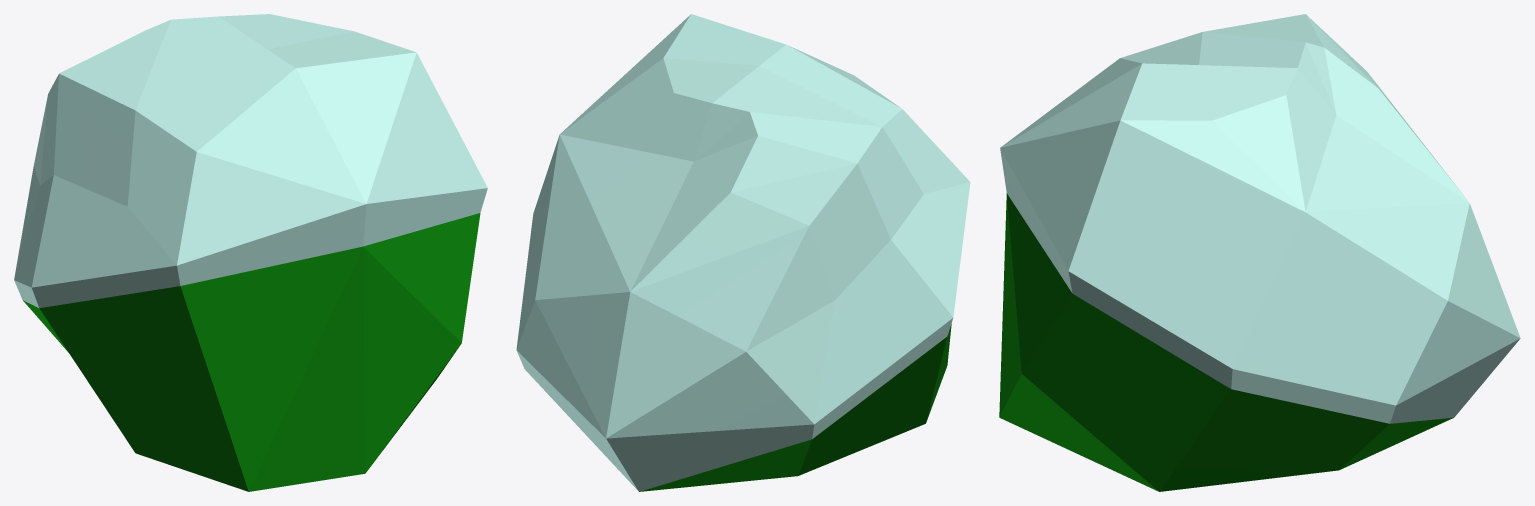
File: Bush4.FBX
The picture shows the model from 3 angles, left to right: view 1: azimuth 30°, elevation 25°; view 2: azimuth 150°, elevation 25°; view 3: azimuth 270°, elevation 25°; orthographic projection. The views are drawn at different scales.
Parts seen in each view (by area): view 1: Bush4_b, Bush4; view 2: Bush4_b, Bush4; view 3: Bush4_b, Bush4.
Boxes of the visible parts, <box> form: Bush4_b: <box>14,14,487,308</box>; Bush4: <box>23,213,480,491</box>; Bush4_b: <box>516,14,970,491</box>; Bush4: <box>640,324,951,491</box>; Bush4_b: <box>1000,14,1520,423</box>; Bush4: <box>999,193,1453,491</box>.
Size of the model in its own units: 3946 by 3036 by 4042.
